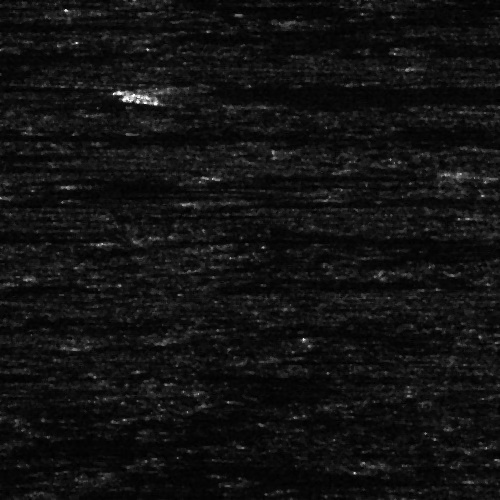object: (111, 79, 226, 104), (95, 229, 188, 242), (197, 170, 270, 179), (154, 200, 237, 207), (44, 343, 97, 348), (245, 356, 298, 361), (224, 477, 265, 482)
shadow: (169, 79, 434, 104), (142, 229, 429, 242), (234, 170, 422, 179), (0, 22, 178, 31), (196, 200, 384, 207), (0, 187, 180, 194), (245, 477, 446, 482), (271, 356, 371, 361), (71, 343, 165, 348)
